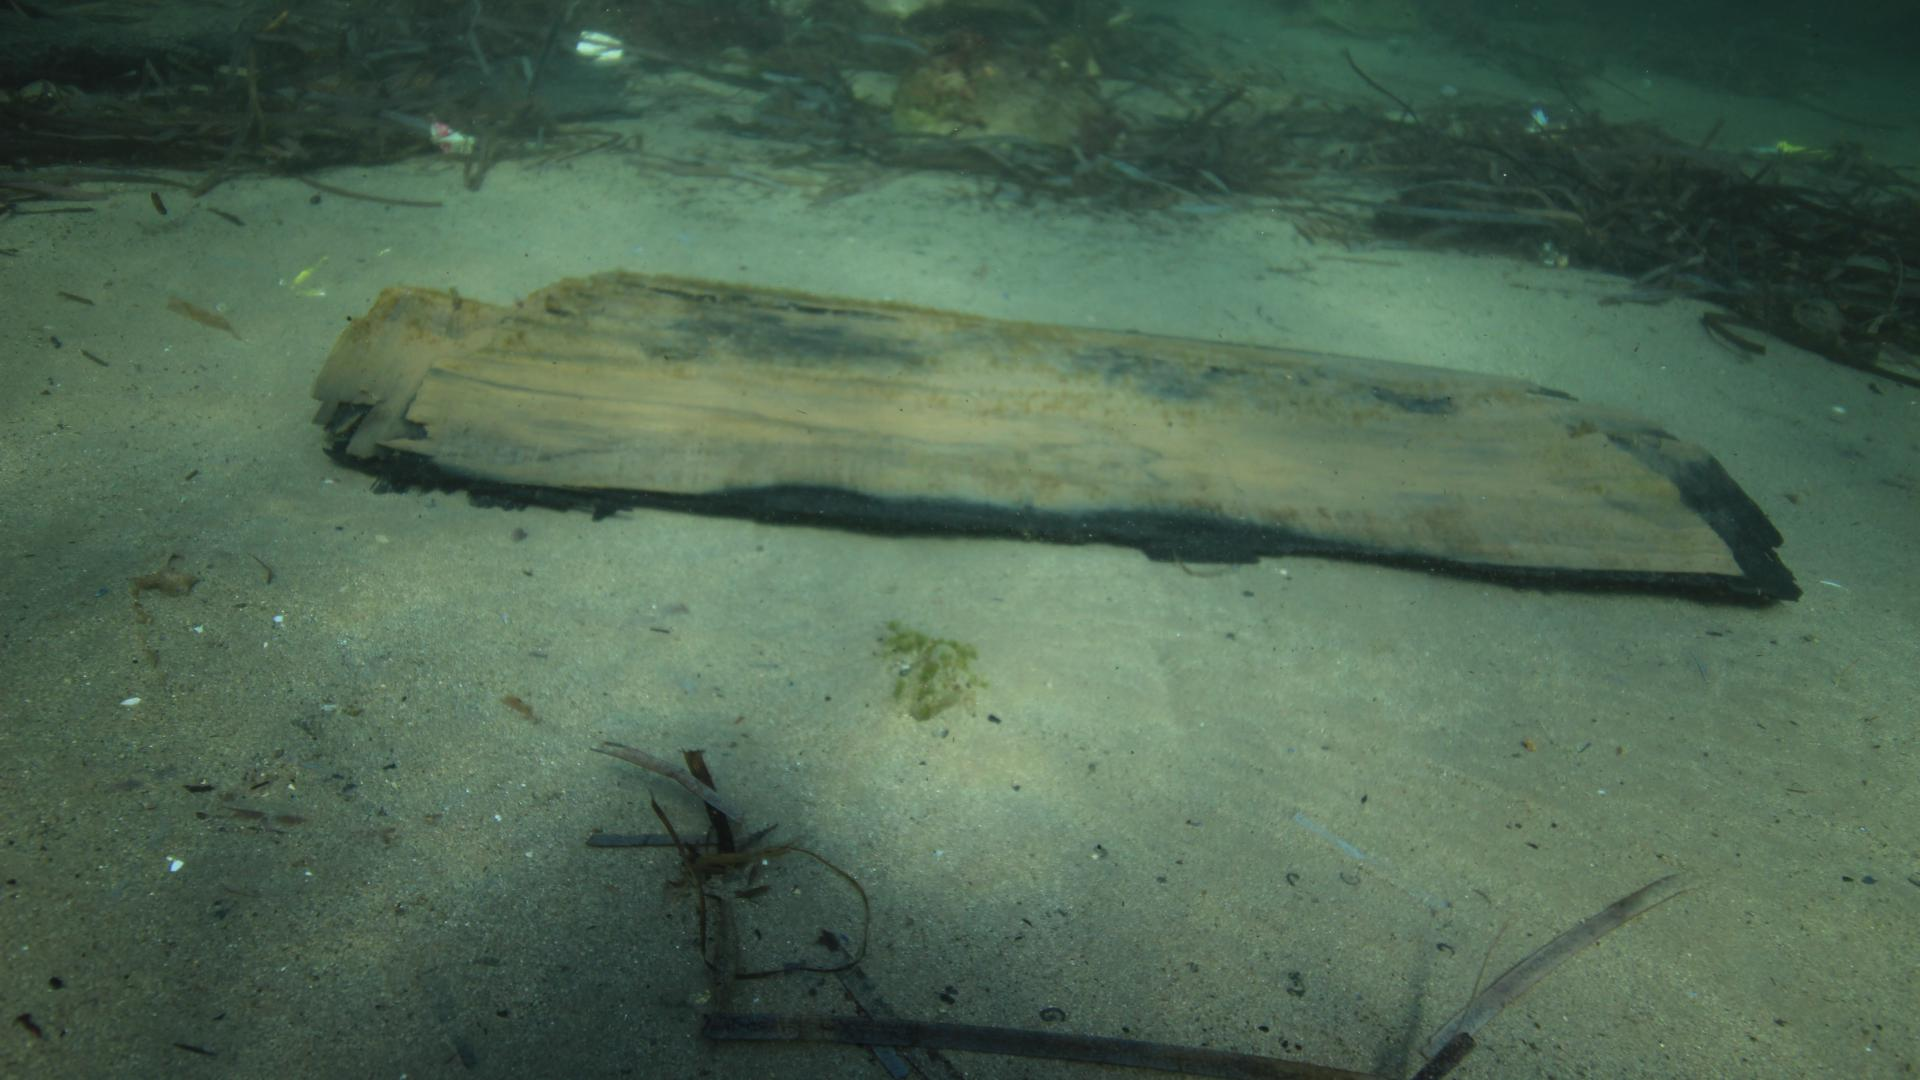wood: (311, 266, 1803, 605)
